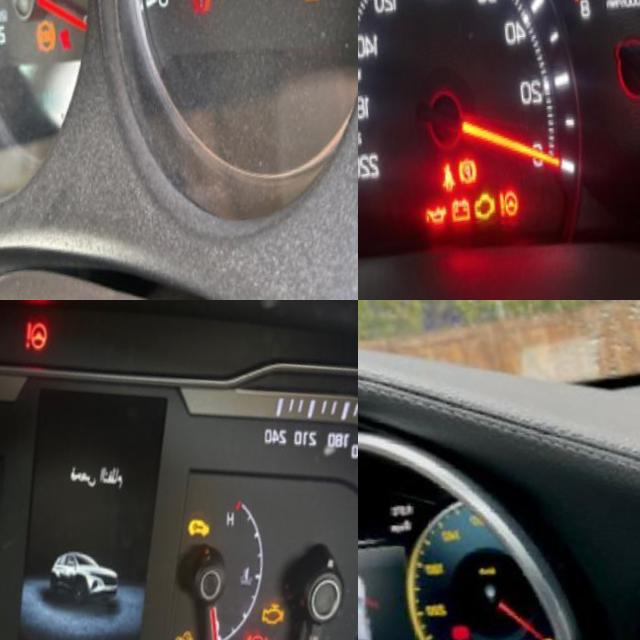Seat Belt: (429, 170, 447, 204)
security: (177, 525, 207, 554)
